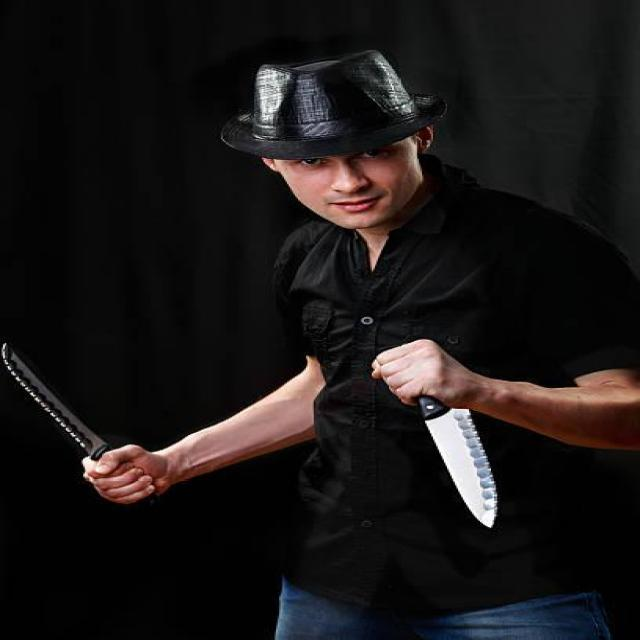faca: (5, 322, 179, 527), (354, 330, 521, 536)
